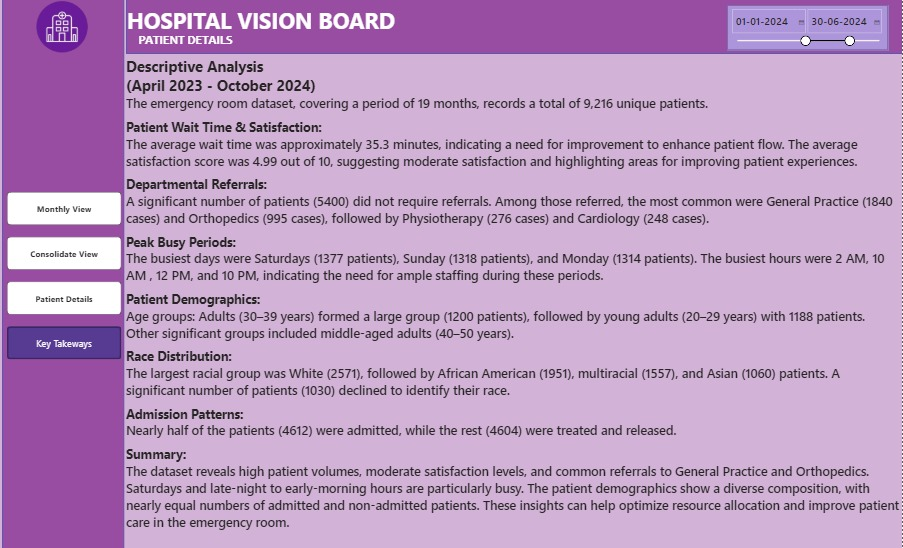

What the dashboard file says about the page in this screenshot:
{"tool":"powerbi","page":{"name":"Key Takeways","canvas":[2300,1400],"ordinal":3},"visuals":[{"type":"shape","box":[8.8,0,311.2,1400],"z":0},{"type":"shape","box":[322,0,1976.8,140],"z":1000},{"type":"textbox","box":[321.6,10,706.7,106],"z":2000},{"type":"slicer","fields":{"Values":["Date table.Date"]},"box":[1852.5,15,410,115],"z":3000},{"type":"textbox","box":[311.6,70.7,327.7,70.7],"z":4000},{"type":"image","box":[0,0,320.6,141.2],"z":5000},{"type":"textbox","box":[319.2,140,1979.6,1260],"z":6000},{"type":"pageNavigator","box":[20.6,491.2,291.2,426.5],"z":7000}]}

Visuals, with their boxes on the page's 2300x1400 design canvas (x1, y1, x2, y2). These are canvas units, not pixel positions in the 903x548 screenshot, which may show the page scaled, cropped or inside an application window:
shape: <region>9, 0, 320, 1400</region>
shape: <region>322, 0, 2299, 140</region>
textbox: <region>322, 10, 1028, 116</region>
slicer - Date table.Date: <region>1852, 15, 2262, 130</region>
textbox: <region>312, 71, 639, 141</region>
image: <region>0, 0, 321, 141</region>
textbox: <region>319, 140, 2299, 1400</region>
pageNavigator: <region>21, 491, 312, 918</region>
